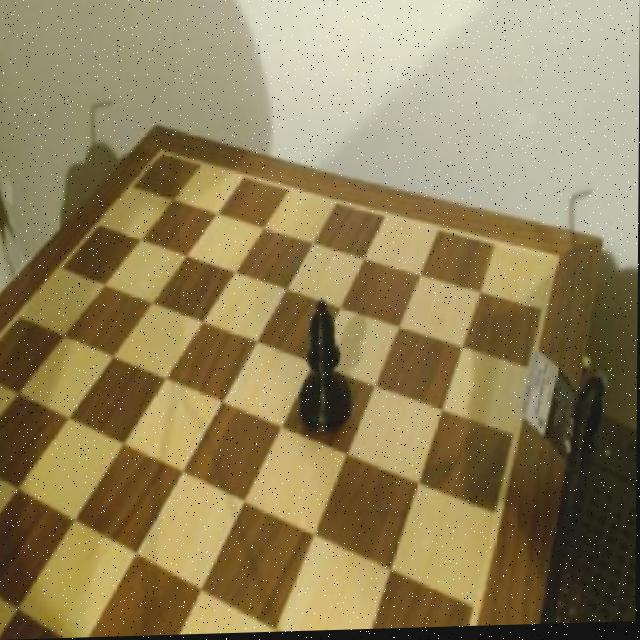bishop: (299, 298, 357, 447)
